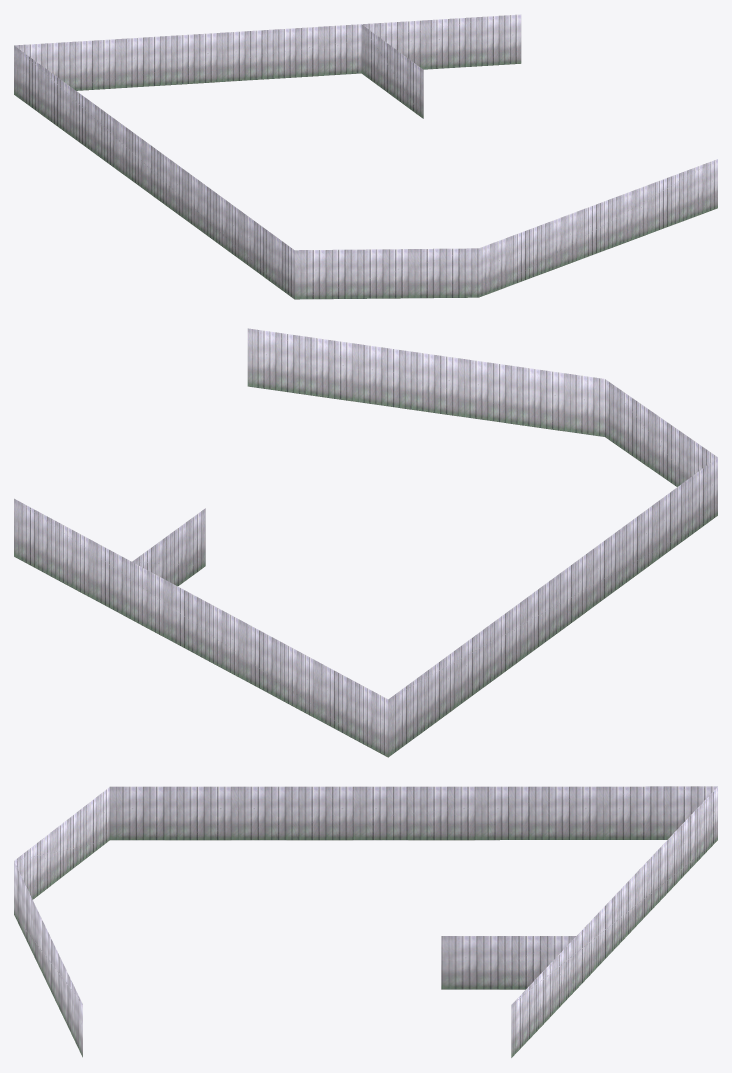
File: fence05.glb
3 renders of one model, top to bottom at view 1: azimuth 30°, elevation 25°; view 2: azimuth 150°, elevation 25°; view 3: azimuth 270°, elevation 25°, orthographic. The views are drawn at different scales.
Parts seen in each view (by area): view 1: fence05; view 2: fence05; view 3: fence05.
Part boxes in pixels (x1,y1,x2,y2): fence05: (14, 14, 717, 299); fence05: (14, 328, 717, 757); fence05: (14, 786, 717, 1057).
Bounding box in the file's own units: 2674 × 306 × 3642.
1 material, 1 textured.
